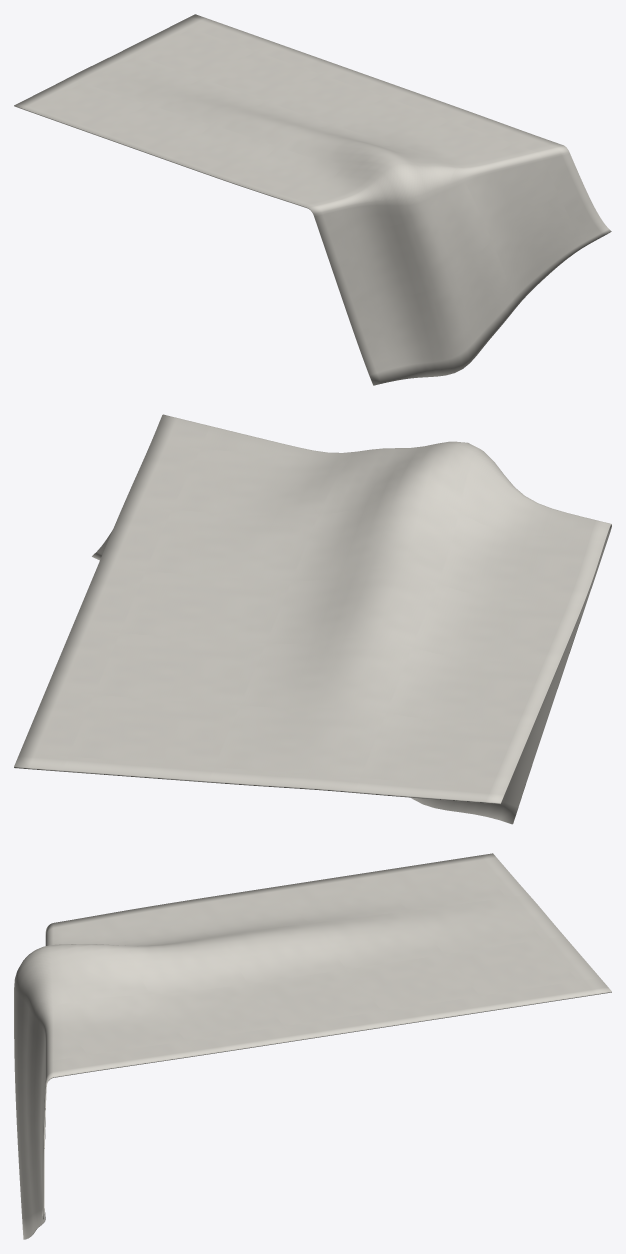
The model's file is cloth.glb.
3 renders of one model, top to bottom at view 1: azimuth 30°, elevation 25°; view 2: azimuth 150°, elevation 25°; view 3: azimuth 270°, elevation 25°, orthographic. The views are drawn at different scales.
Parts seen in each view (by area): view 1: asset-foundation-v1/cloth; view 2: asset-foundation-v1/cloth; view 3: asset-foundation-v1/cloth.
Part boxes in pixels (bbox=[...]): asset-foundation-v1/cloth: bbox=[14, 14, 611, 385]; asset-foundation-v1/cloth: bbox=[14, 414, 611, 824]; asset-foundation-v1/cloth: bbox=[14, 853, 611, 1239].
Bounding box in the file's own units: 1.02 × 0.5071 × 1.03.
1 material, 1 textured.
